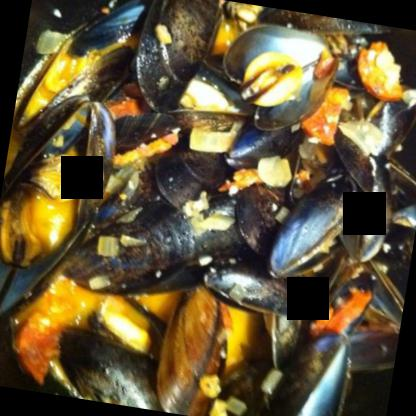mussel: (208, 17, 344, 136), (0, 197, 86, 332), (125, 0, 219, 112)
